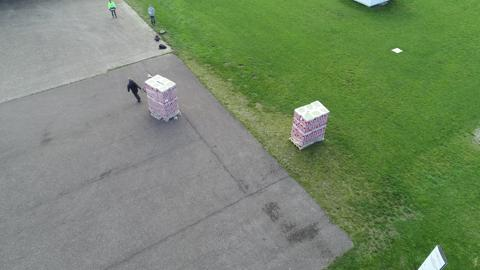RockwoolPallet: (148, 72, 176, 122)
